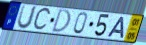0: (73, 12, 89, 36)
5: (94, 14, 111, 37)
A: (106, 16, 126, 39)
C: (31, 6, 52, 32)
D: (50, 8, 71, 34)
U: (15, 4, 38, 31)
